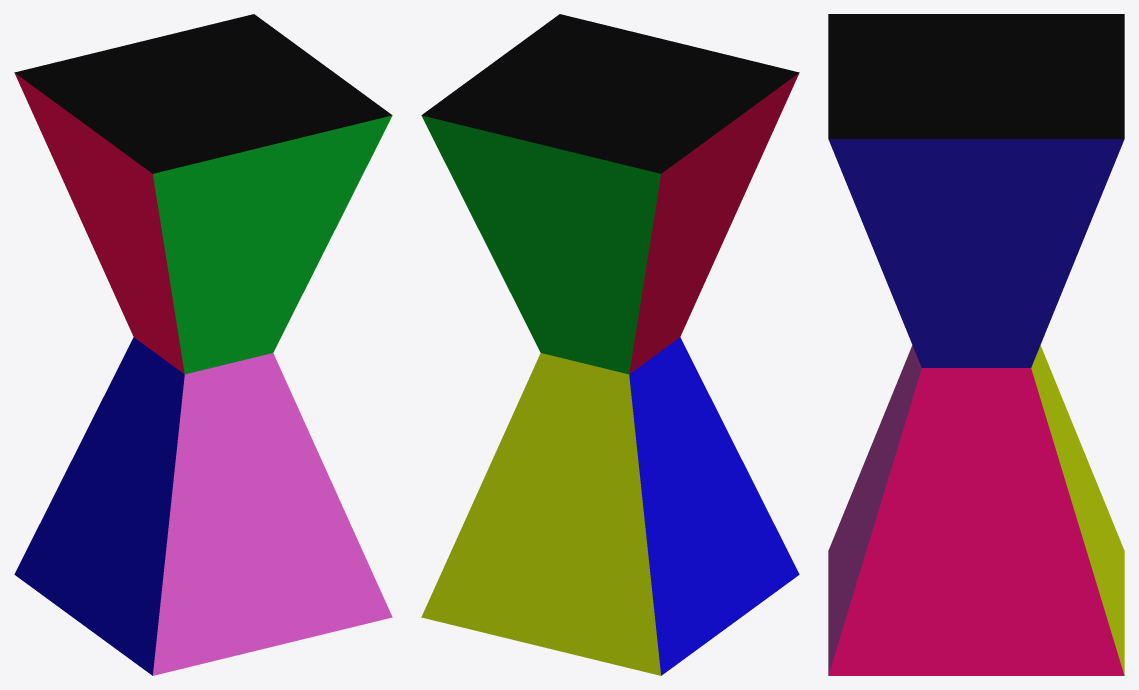
The picture shows the model from 3 angles, left to right: view 1: azimuth 30°, elevation 25°; view 2: azimuth 150°, elevation 25°; view 3: azimuth 270°, elevation 25°; orthographic projection. The views are drawn at different scales.
Visible parts, largest first — view 1: Cube.001, Cube; view 2: Cube.001, Cube; view 3: Cube.001, Cube.
Boxes of the visible parts, <box> form: Cube.001: <box>14,14,392,374</box>; Cube: <box>14,337,392,675</box>; Cube.001: <box>421,14,799,374</box>; Cube: <box>421,337,799,675</box>; Cube.001: <box>828,14,1124,367</box>; Cube: <box>828,345,1124,675</box>.
Bounding box in the file's own units: 0.4536 × 0.9073 × 0.4536.
